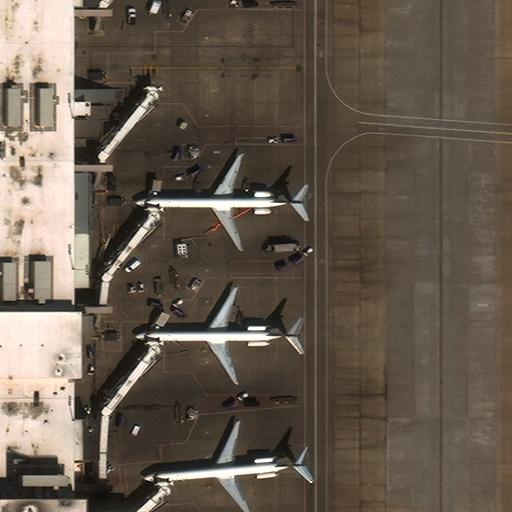Medium Civil Transport: (133, 154, 304, 251), (134, 286, 299, 384), (143, 421, 307, 512)
